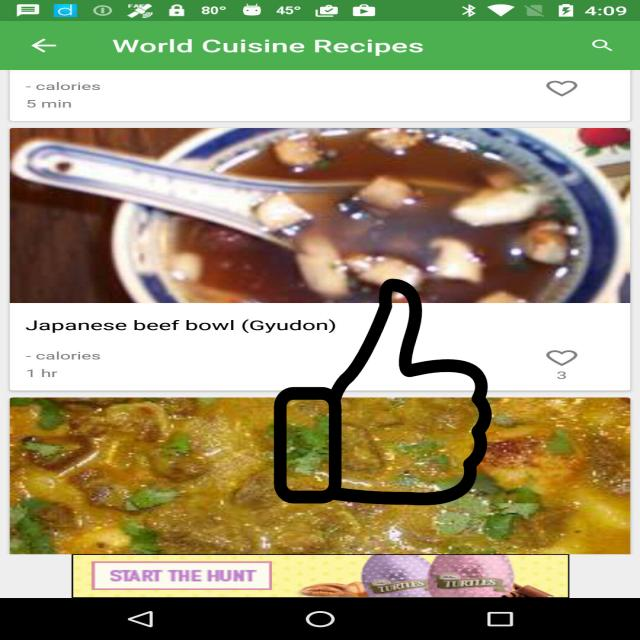privacy zuckering: (271, 279, 495, 505)
